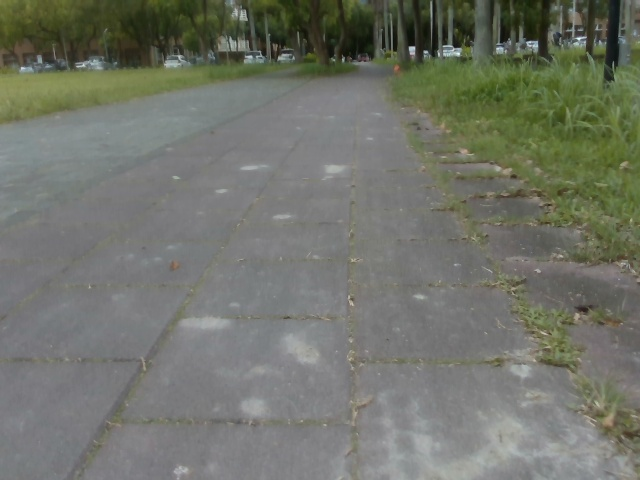grass: (0, 39, 639, 306), (0, 0, 475, 67), (493, 0, 639, 55)
road: (0, 64, 639, 479)
sidewalk: (114, 319, 155, 380)
